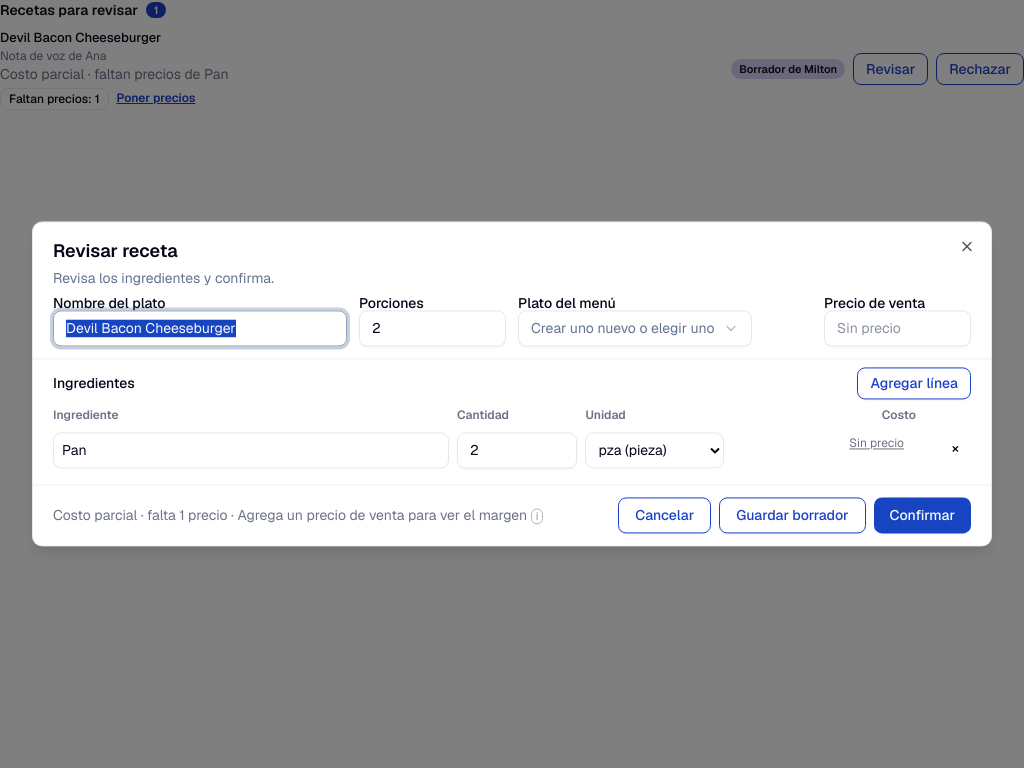
the price popover › clicking outside closes it, without saving
Click the button with aria-label "Precio de Pan".
click(877, 444)  # box [845,436,908,453]
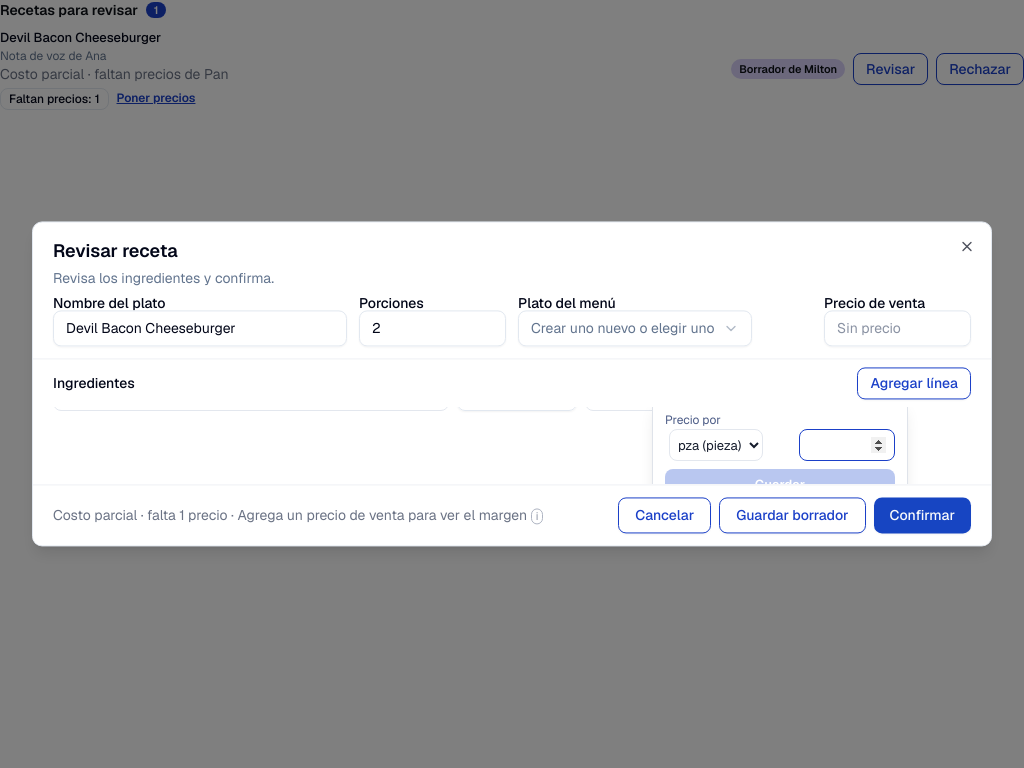
expect the dialog with test id "price-popover" is shown: met, box [652,407,908,484]
Press the mouse on the text "Revisa los ingredientes y confirma." at x=164, y=278, box [53,269,274,287]
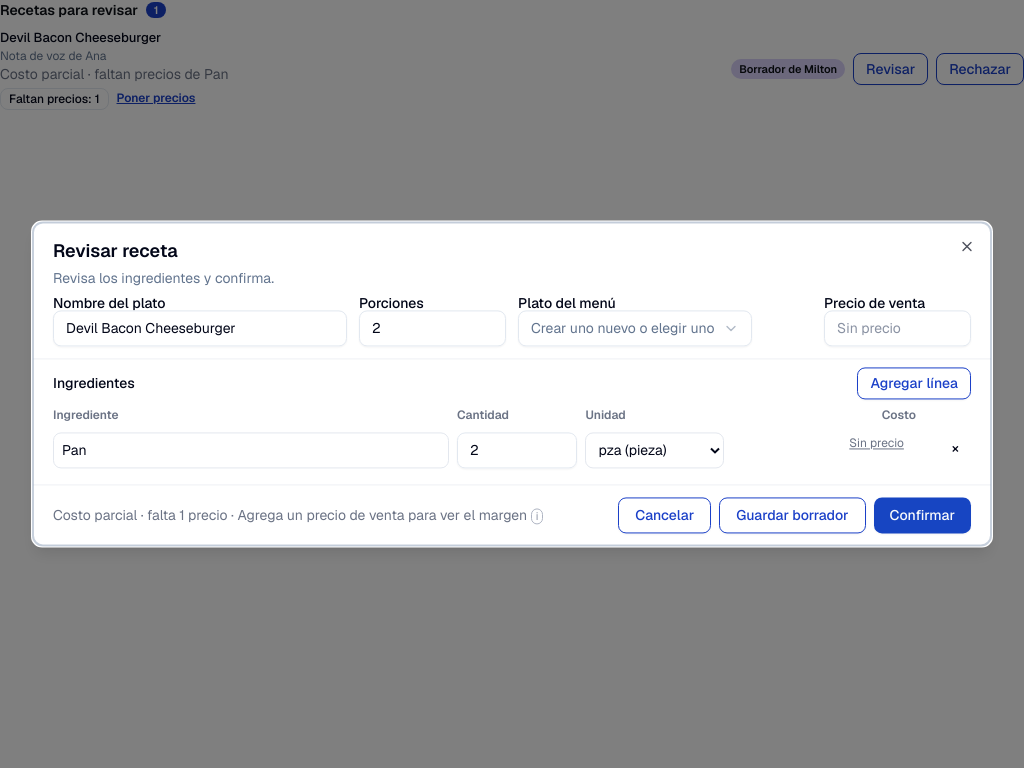
expect the dialog with test id "price-popover" is gone: met
